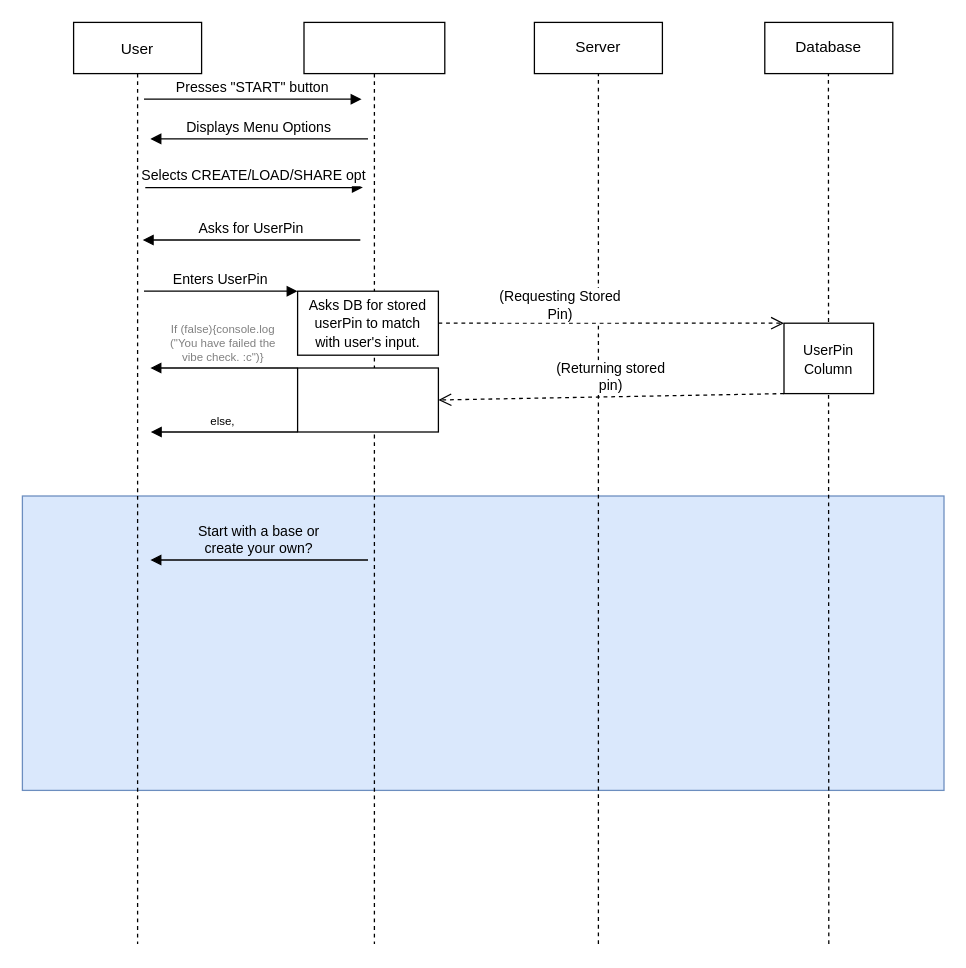
The diagram is 966 pixels wide and 968 high, and some of its shapes have lost their labels. The shapes that lost their labels are listed below. From the top down, each one's box as (x1, y1, x2, y2) in pixels, then its label:
(296, 367, 438, 432): Comparing pins.
(303, 21, 445, 944): App
(21, 495, 944, 790): Peep Creation:
